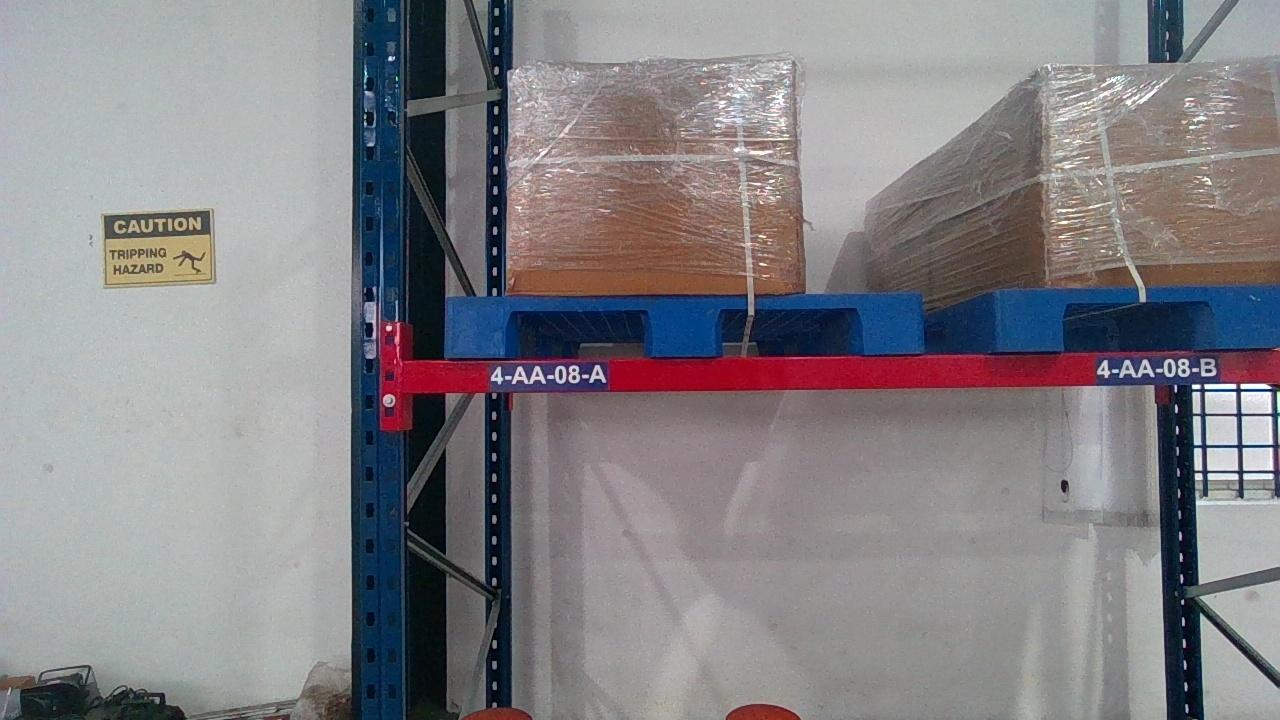h_rack: (411, 350, 1279, 389)
small_pallet: (443, 294, 926, 353), (997, 285, 1278, 347)
